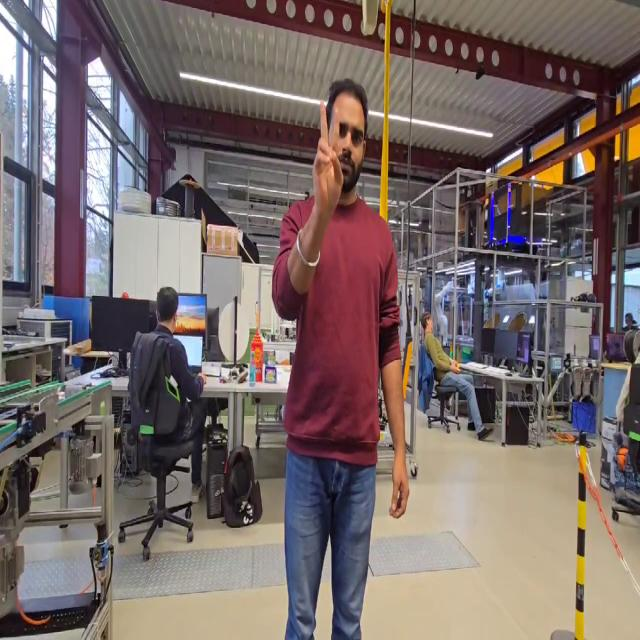v_sign: (308, 95, 348, 218)
